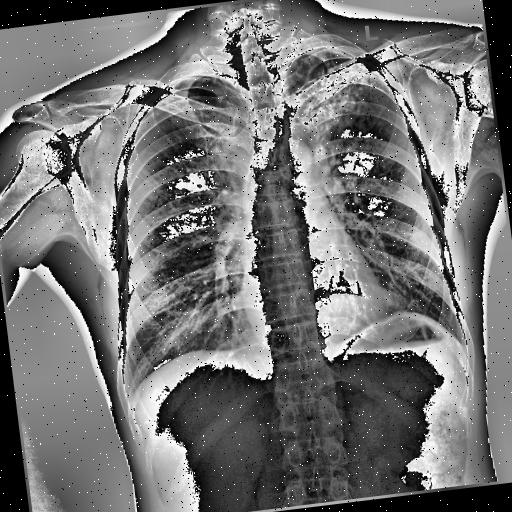11- Pleural thickening: (152, 75, 188, 103), (156, 78, 188, 96)
13- Pulmonary fibrosis: (286, 44, 376, 150), (294, 51, 390, 147), (288, 54, 380, 144)
4- Consolidation: (288, 54, 380, 144)
6- Infiltration: (286, 44, 376, 150), (294, 51, 390, 147), (288, 54, 380, 144)
